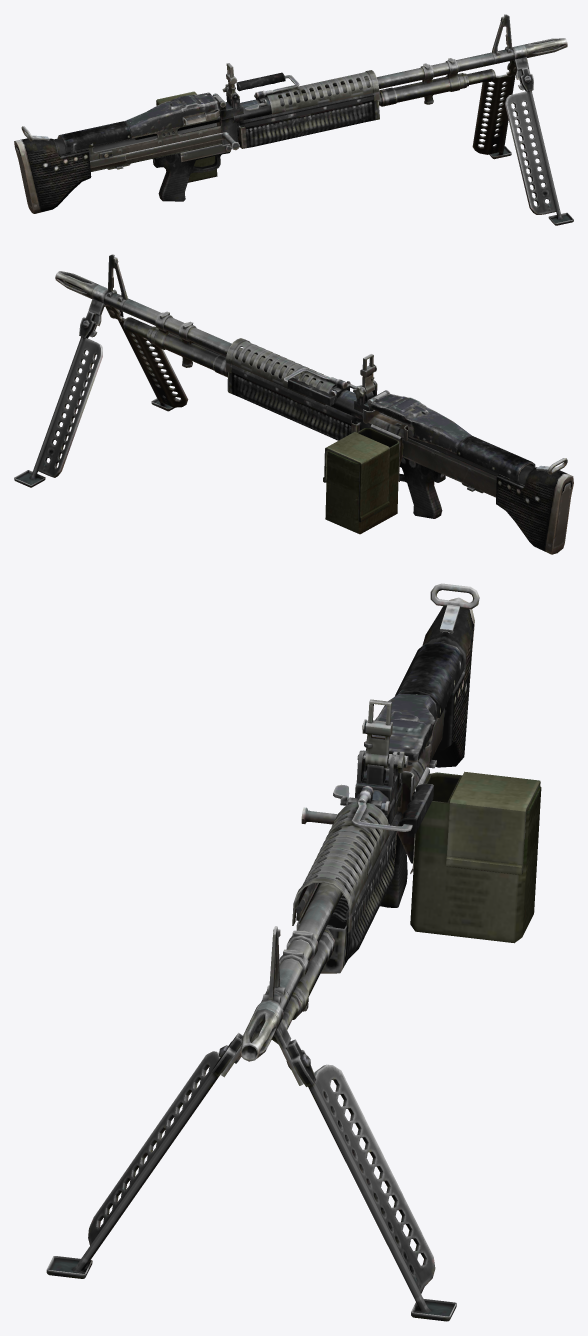
Rendered from Weapon_3008.fbx.
The picture shows the model from 3 angles, top to bottom: view 1: azimuth 30°, elevation 25°; view 2: azimuth 150°, elevation 25°; view 3: azimuth 270°, elevation 25°; orthographic projection. The views are drawn at different scales.
Visible parts, largest first — view 1: Weapon_3008_1, Weapon_3008_clip; view 2: Weapon_3008_1, Weapon_3008_clip; view 3: Weapon_3008_1, Weapon_3008_clip.
Part boxes in pixels (x1=…): Weapon_3008_1: x1=14, y1=14, x2=573, y2=225; Weapon_3008_clip: x1=156, y1=91, x2=217, y2=182; Weapon_3008_1: x1=14, y1=254, x2=573, y2=554; Weapon_3008_clip: x1=323, y1=428, x2=399, y2=534; Weapon_3008_1: x1=46, y1=583, x2=479, y2=1321; Weapon_3008_clip: x1=410, y1=771, x2=541, y2=943.
Bounding box in the file's own units: 162 × 55.14 × 69.67.
